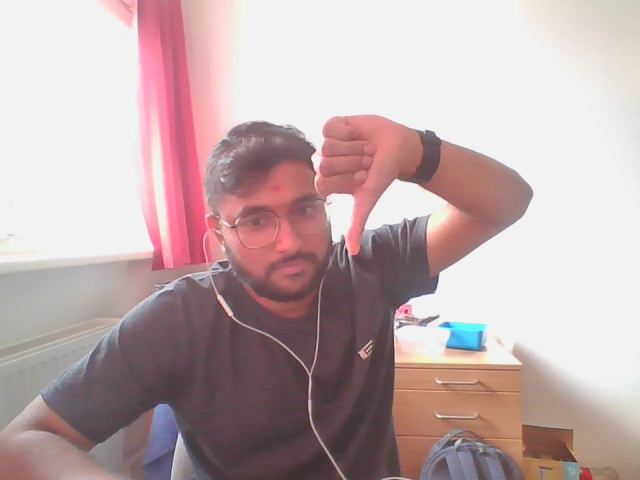ThumbsDown: (315, 112, 399, 257)
